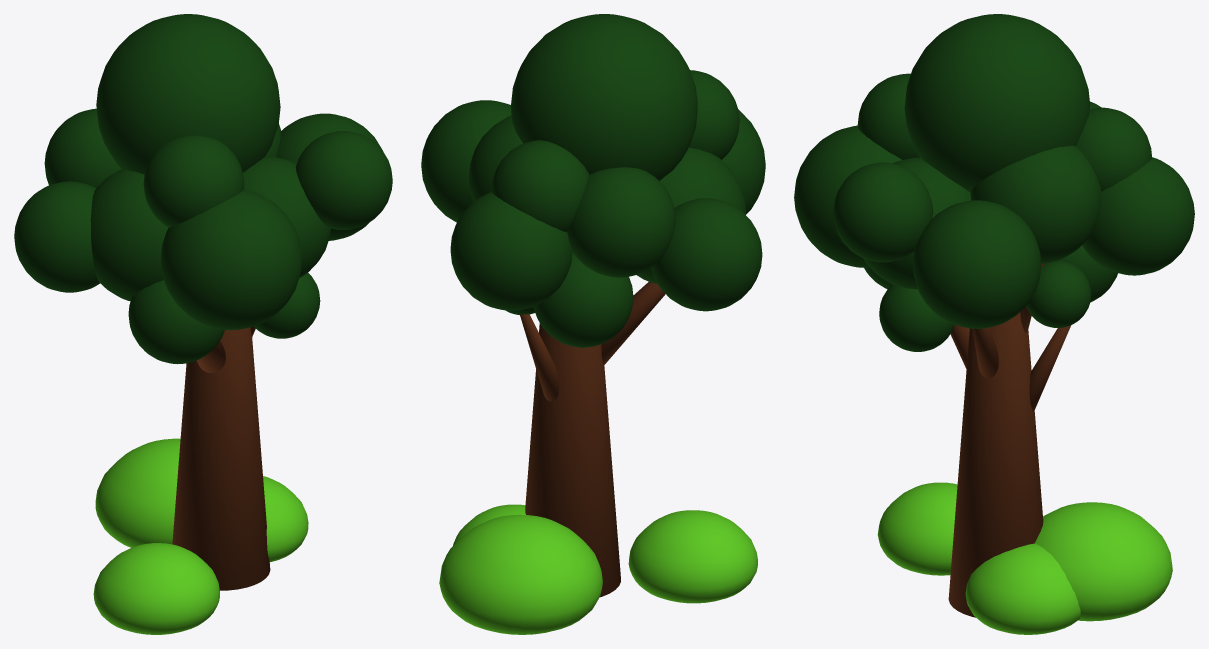
File: tree.fbx
3 views of the same model, side by side, from view 1: azimuth 30°, elevation 25°; view 2: azimuth 150°, elevation 25°; view 3: azimuth 270°, elevation 25° (orthographic).
Parts seen in each view (by area): view 1: Sphere.030, Cylinder, Sphere.028, Sphere.043, Sphere.037, Sphere.029, Sphere.026, Sphere.041, Sphere.040, Sphere.033, Sphere.038, Sphere.035 (+4 smaller); view 2: Sphere.030, Sphere.041, Cylinder, Sphere.025, Sphere.043, Sphere.035, Sphere.029, Sphere.039, Sphere.036, Sphere.027, Sphere.037, Sphere.040 (+5 smaller); view 3: Sphere.030, Cylinder, Sphere.027, Sphere.041, Sphere.025, Sphere.034, Sphere.042, Sphere.026, Sphere.028, Sphere.043, Sphere.039, Sphere.031 (+6 smaller).
Part boxes in pixels (<box>): Sphere.030: <box>96,14,280,174</box>; Cylinder: <box>172,327,270,590</box>; Sphere.028: <box>160,190,302,330</box>; Sphere.043: <box>93,543,219,634</box>; Sphere.037: <box>90,169,168,301</box>; Sphere.029: <box>14,181,100,292</box>; Sphere.026: <box>295,131,392,230</box>; Sphere.041: <box>95,438,180,547</box>; Sphere.040: <box>143,135,244,227</box>; Sphere.033: <box>128,280,224,364</box>; Sphere.038: <box>243,156,331,277</box>; Sphere.035: <box>44,108,121,188</box>; Sphere.030: <box>511,14,697,180</box>; Sphere.041: <box>439,514,602,634</box>; Cylinder: <box>525,323,620,597</box>; Sphere.025: <box>450,192,572,310</box>; Sphere.043: <box>628,510,757,603</box>; Sphere.035: <box>567,167,675,277</box>; Sphere.029: <box>651,198,762,311</box>; Sphere.039: <box>491,140,589,232</box>; Sphere.036: <box>533,252,633,347</box>; Sphere.027: <box>421,100,511,222</box>; Sphere.037: <box>637,147,745,283</box>; Sphere.040: <box>689,70,739,159</box>; Sphere.030: <box>904,14,1090,192</box>; Cylinder: <box>948,312,1043,617</box>; Sphere.027: <box>912,200,1041,328</box>; Sphere.041: <box>1034,502,1172,621</box>; Sphere.025: <box>1082,157,1194,275</box>; Sphere.034: <box>970,145,1101,263</box>; Sphere.042: <box>965,543,1080,634</box>; Sphere.026: <box>833,162,933,262</box>; Sphere.028: <box>794,125,902,267</box>; Sphere.043: <box>877,482,957,575</box>; Sphere.039: <box>1076,107,1151,191</box>; Sphere.031: <box>879,284,954,351</box>.
Bounding box in the file's own units: 453 × 723 × 460.
